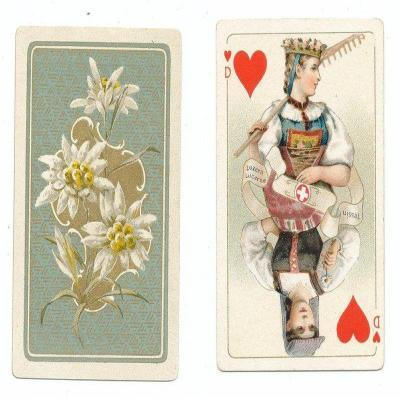graphics: (213, 18, 388, 374), (12, 27, 182, 384)
